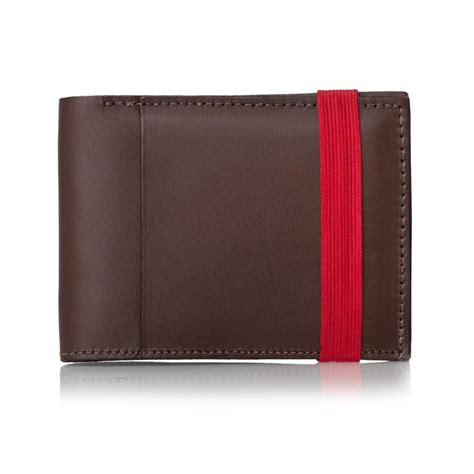cuero: (53, 87, 414, 362)
